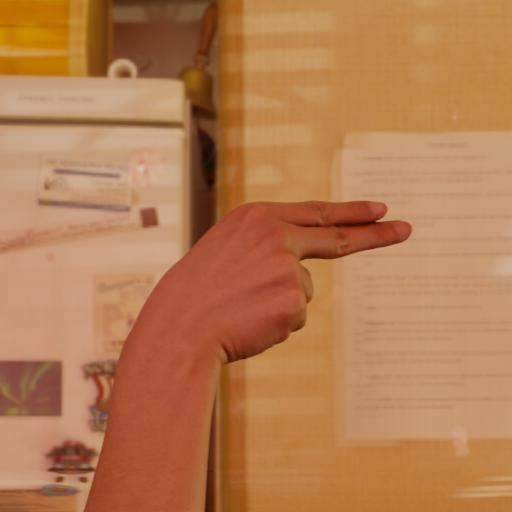H: (83, 133, 426, 512)
